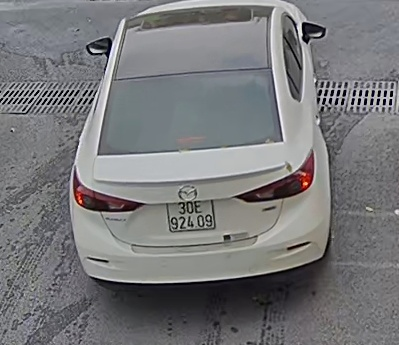vehicle plate: (159, 196, 223, 232)
